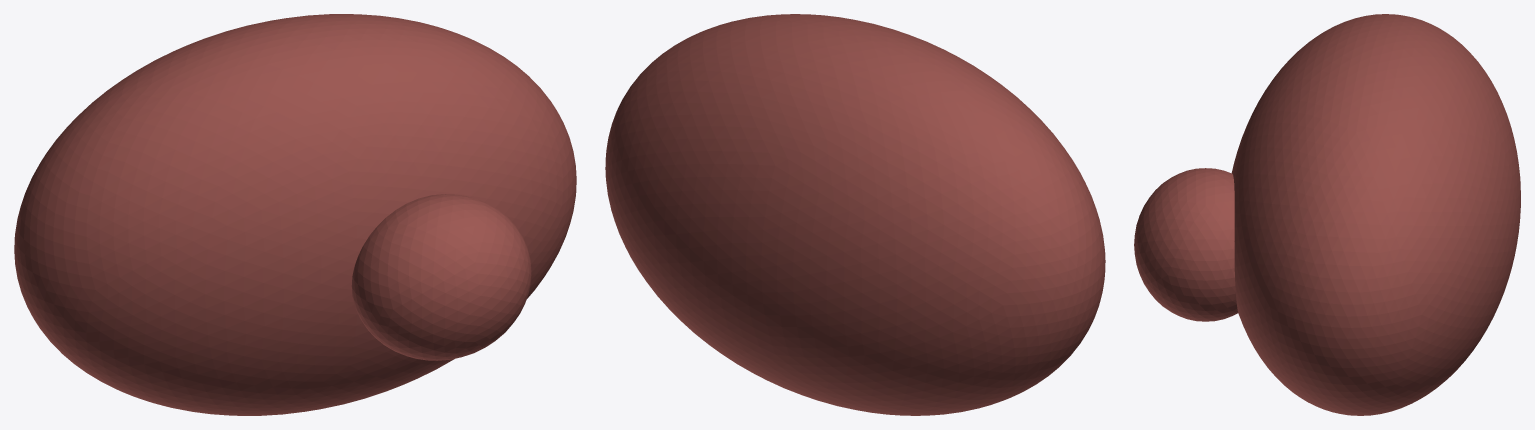
Rendered from dranmar_oncology_liver_detached.glb.
3 views of the same model, side by side, from view 1: azimuth 30°, elevation 25°; view 2: azimuth 150°, elevation 25°; view 3: azimuth 270°, elevation 25° (orthographic). The views are drawn at different scales.
Parts seen in each view (by area): view 1: liver, specimen; view 2: liver; view 3: liver, specimen.
Part boxes in pixels (box(x1,y1,x2,y2)): liver: box(14, 14, 576, 415); specimen: box(351, 194, 531, 360); liver: box(605, 14, 1105, 415); liver: box(1231, 14, 1520, 415); specimen: box(1134, 168, 1237, 321).
Bounding box in the file's own units: 0.2388 × 0.164 × 0.1729.
